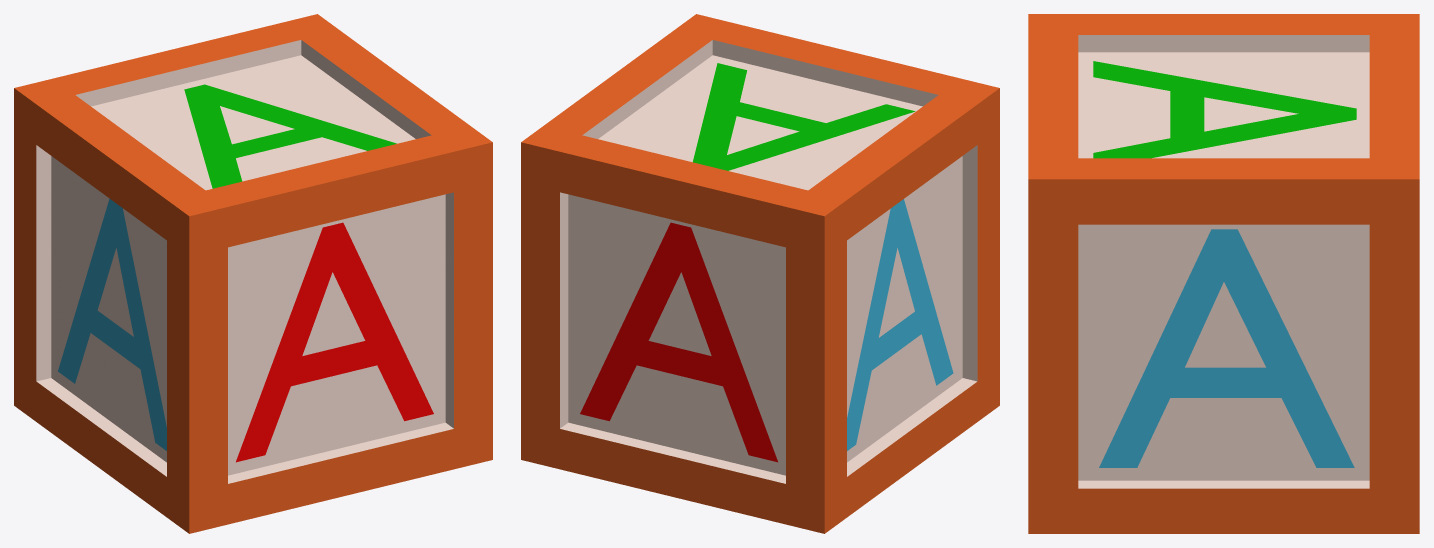
Rendered from Prop_KidsCube_A.fbx.
3 views of the same model, side by side, from view 1: azimuth 30°, elevation 25°; view 2: azimuth 150°, elevation 25°; view 3: azimuth 270°, elevation 25° (orthographic). The views are drawn at different scales.
Visible parts, largest first — view 1: Prop_KidsCube_A; view 2: Prop_KidsCube_A; view 3: Prop_KidsCube_A.
Boxes of the visible parts, x1=… form: Prop_KidsCube_A: x1=14, y1=14, x2=492, y2=533; Prop_KidsCube_A: x1=521, y1=14, x2=999, y2=533; Prop_KidsCube_A: x1=1028, y1=14, x2=1419, y2=533.
Bounding box in the file's own units: 20.92 × 20.92 × 20.92.
